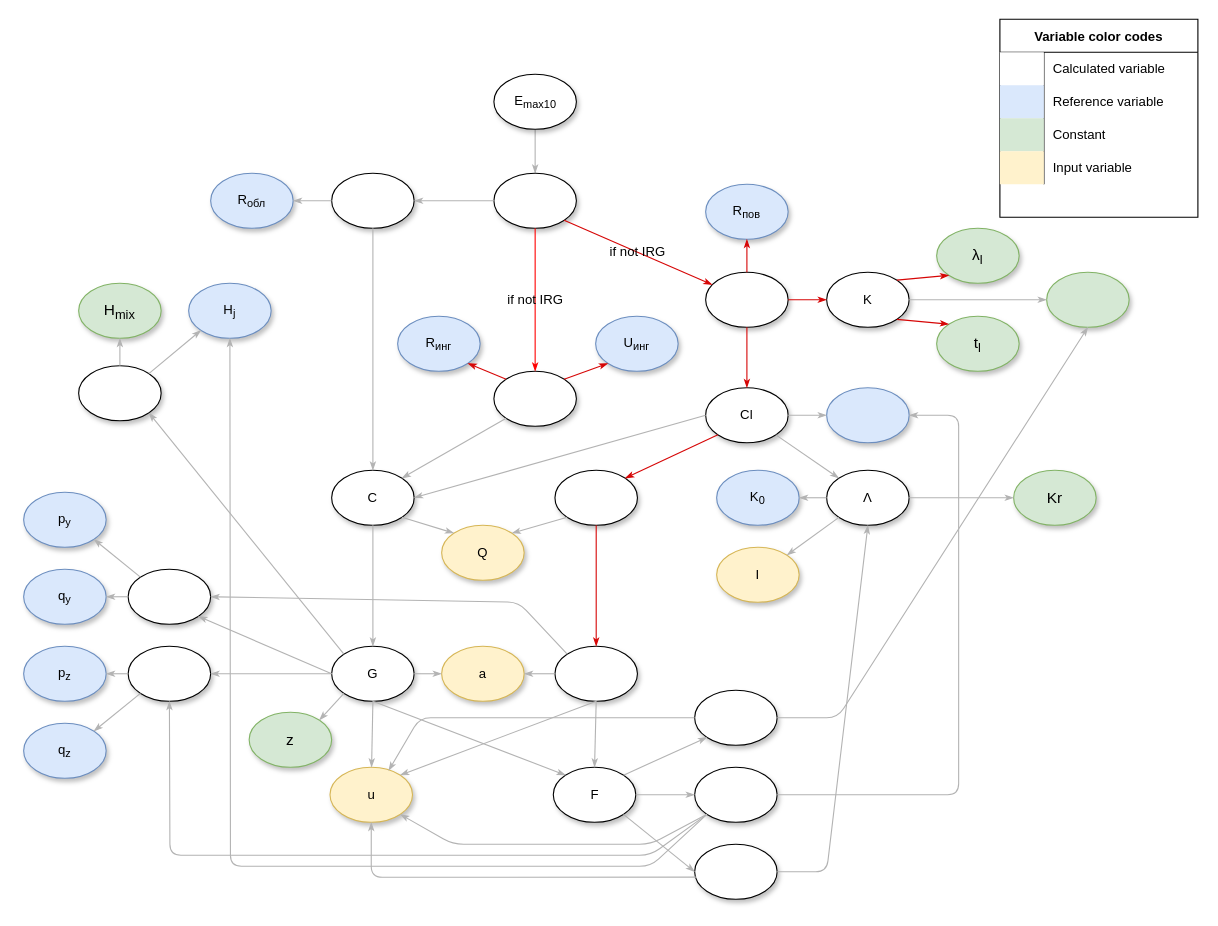
The diagram is 1218 pixels wide and 926 high, and some of its shapes have lost their labels. Each missing label, with the centre of its shape:
E total10: point 535,202
E инг: point 535,400
E обл: point 373,202
E пов: point 747,301
F dry: point 736,796
F rad: point 736,719
F wet: point 736,873
G z: point 596,675
G(z): point 120,394
V g: point 868,416
λ r: point 1088,301
σ y: point 170,598
σ z: point 170,675
С z: point 596,499
